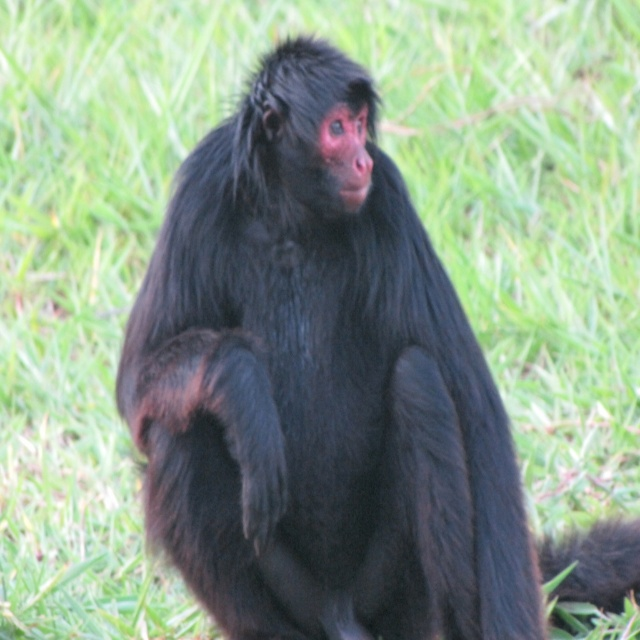Monkey: (114, 28, 640, 640)
